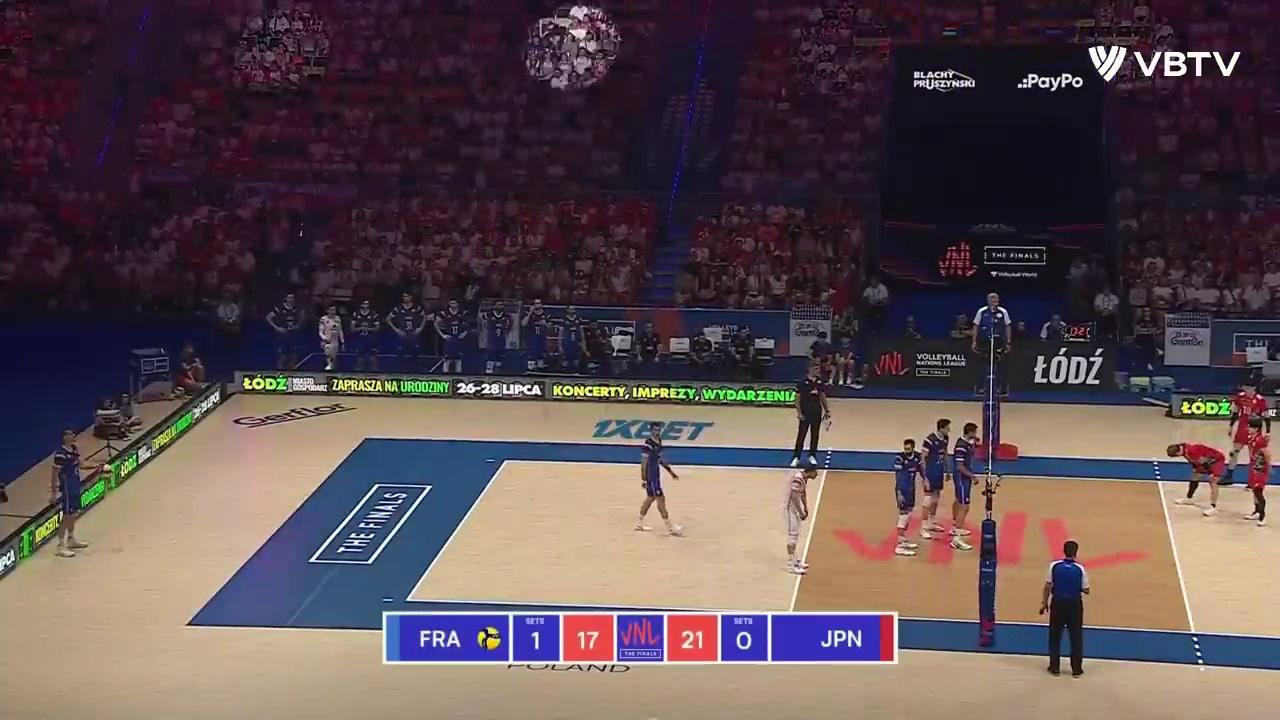ball: (99, 464, 112, 477)
